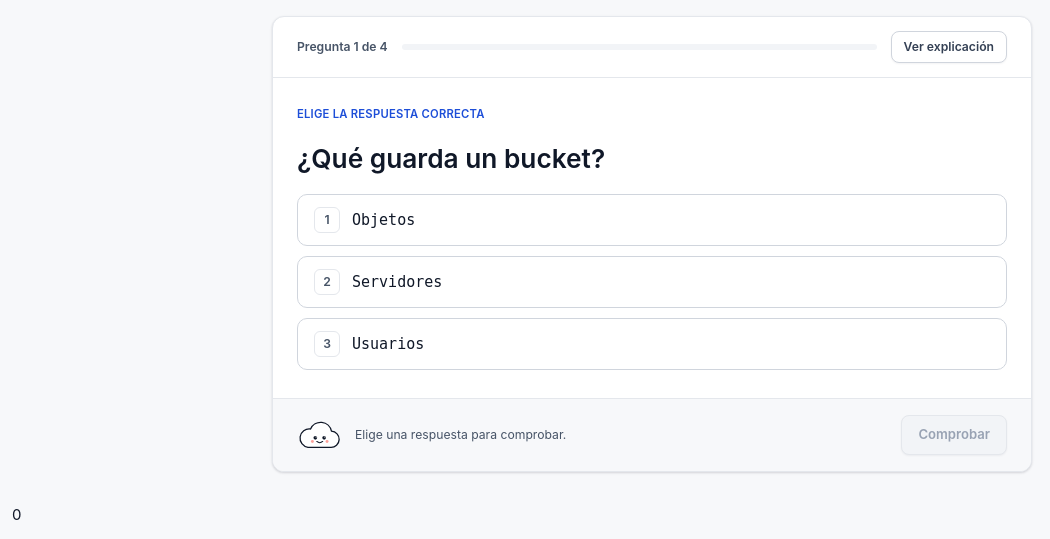
Test: a wrong answer shows the hint and "Intentar de nuevo" retries
Step 1. Click the radio button labelled "3 Usuarios" → [388, 344], box [297, 318, 1007, 370]
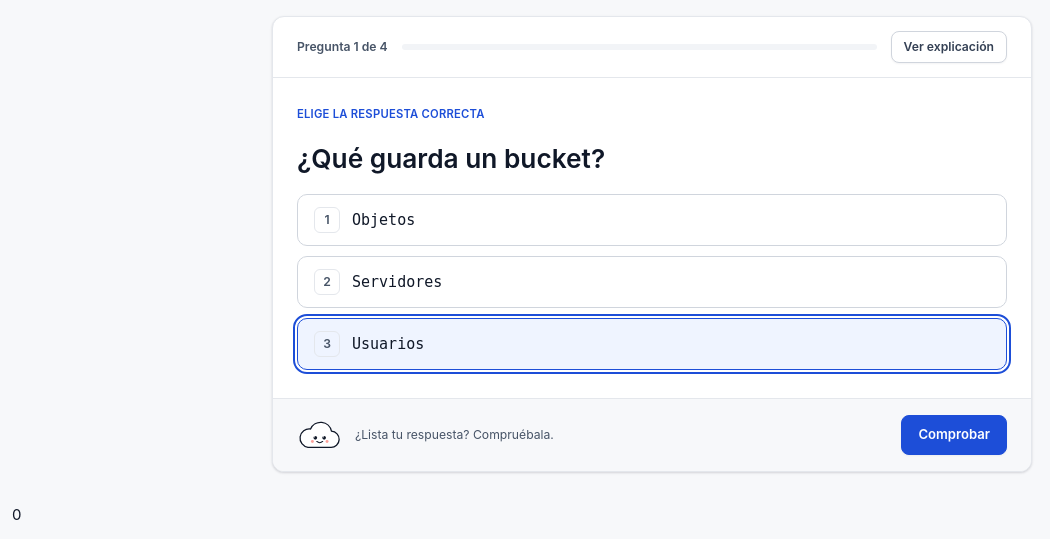
Step 2. Click the button "Comprobar" → [954, 435], box [901, 415, 1007, 455]
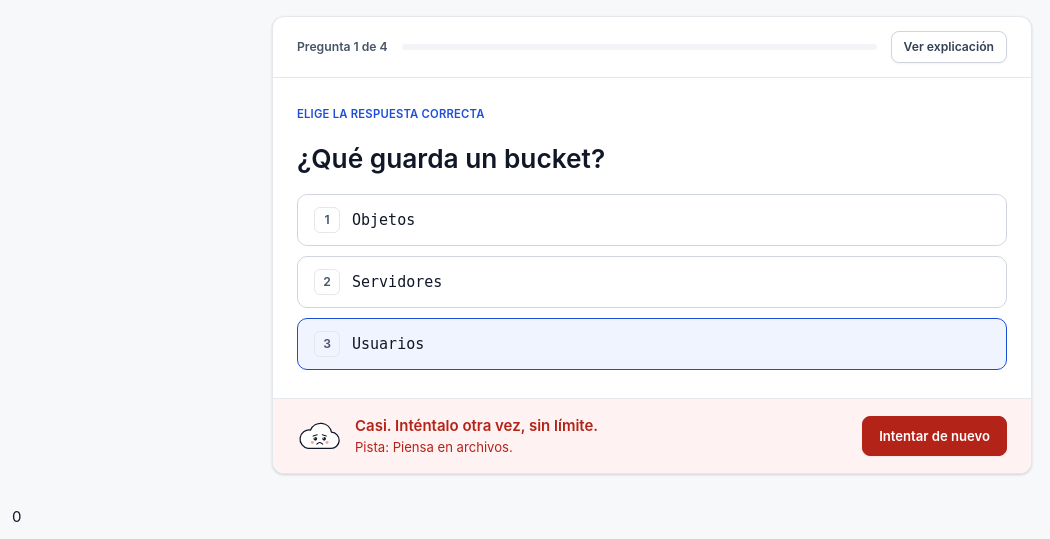
expect the radio button labelled "2 Servidores" is disabled: met, box [297, 256, 1007, 308]
expect the message shows "Casi. Inténtalo otra vez, sin límite.": met, box [355, 416, 598, 435]
expect the message shows "Pista: Piensa en archivos.": met, box [355, 439, 513, 455]
Step 3. Click the button "Intentar de nuevo" → [935, 436], box [862, 416, 1007, 456]
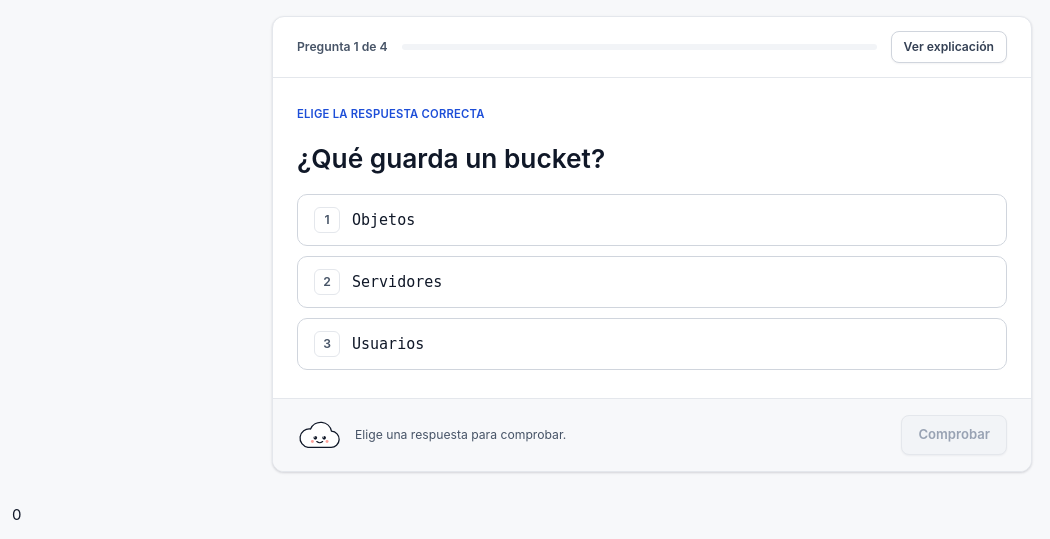
expect the radio button labelled "3 Usuarios" is not checked: met, box [297, 318, 1007, 370]
expect the button "Comprobar" is disabled: met, box [901, 415, 1007, 455]
